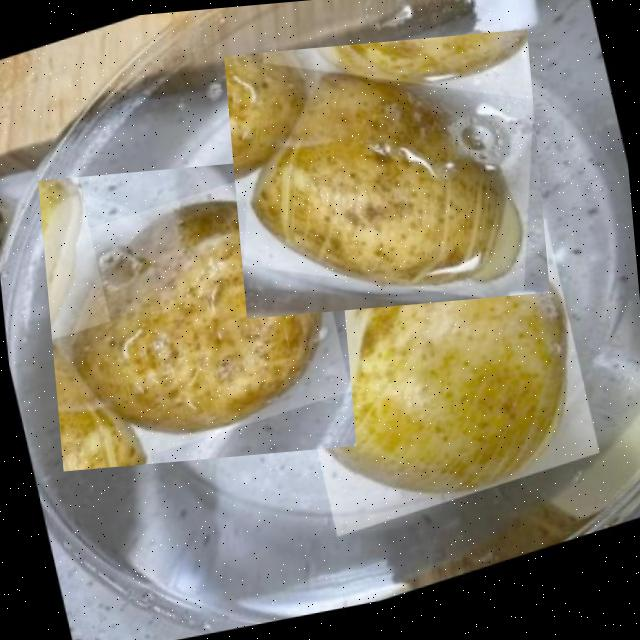Potato: (276, 225, 602, 548), (37, 154, 355, 472), (222, 29, 548, 318)
